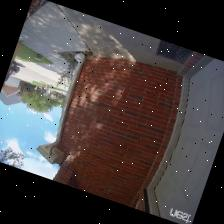person: (3, 41, 20, 86)
